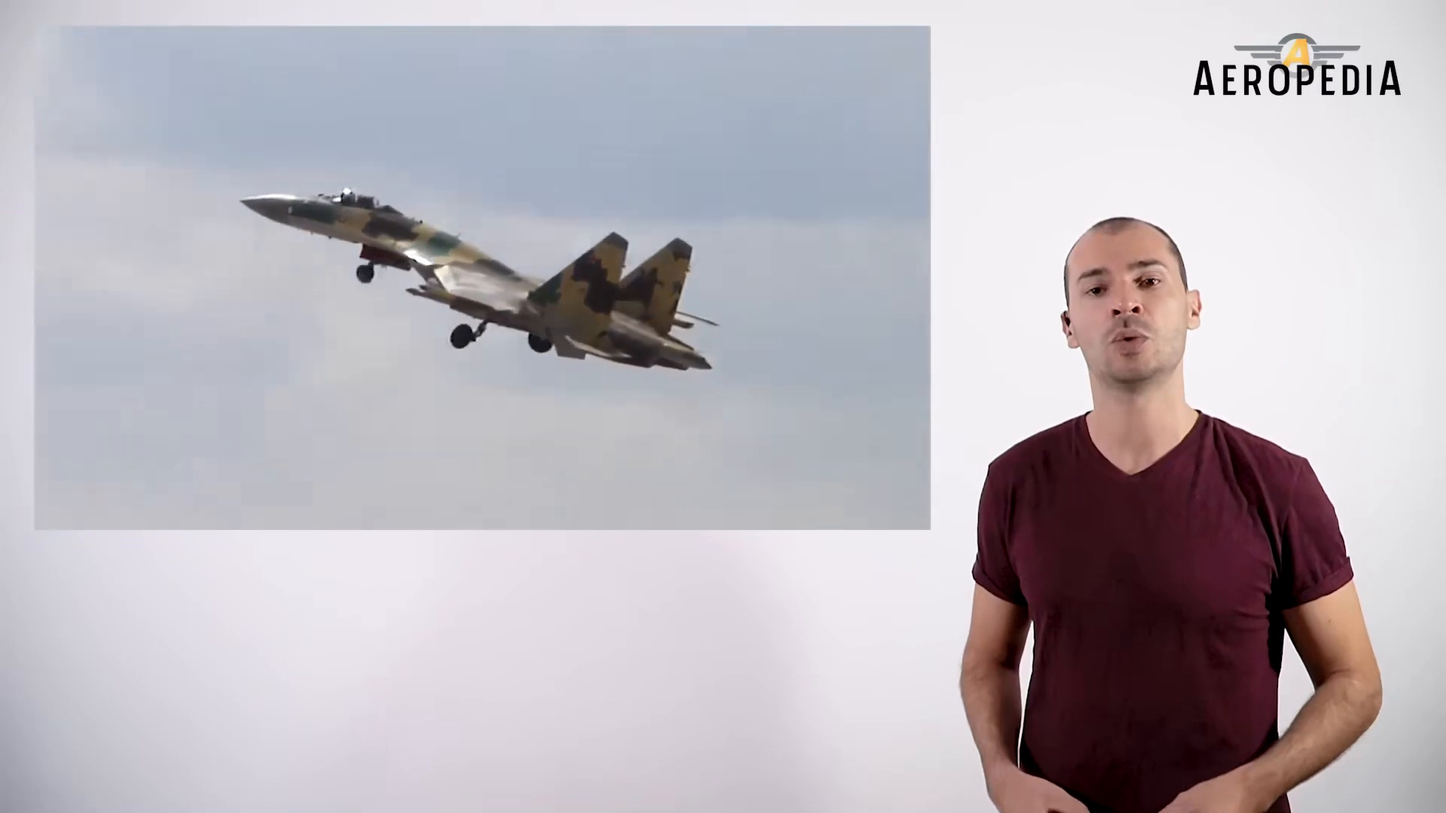Su35: (238, 187, 719, 370)
